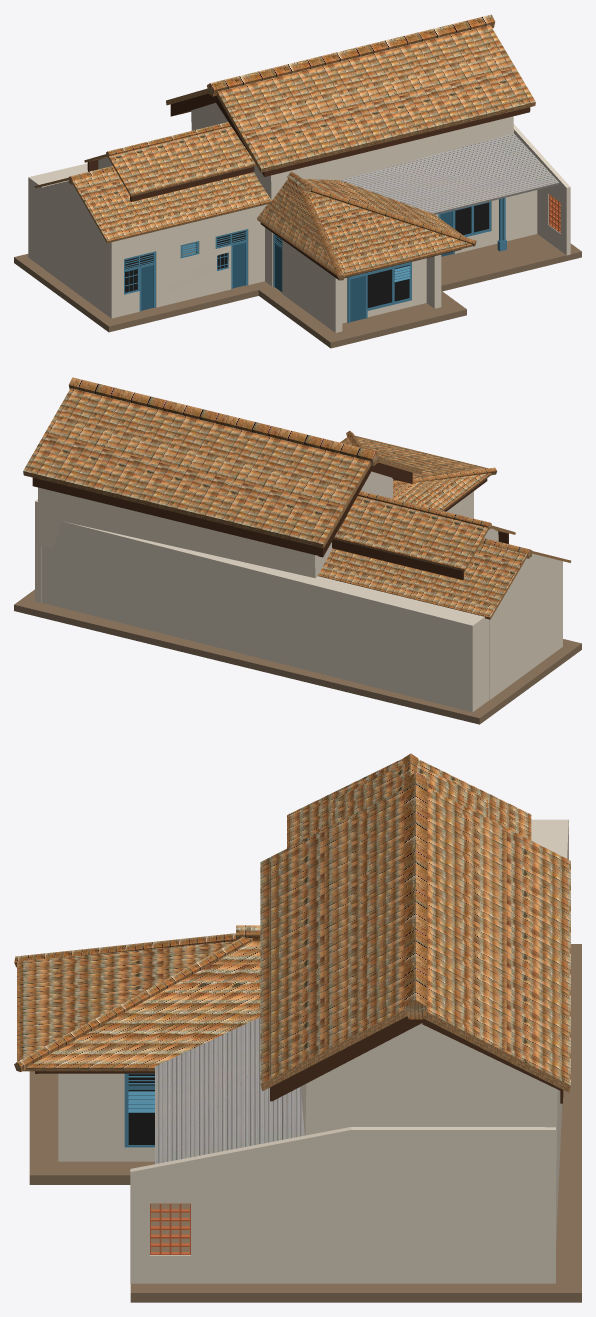
Rendered from multatuli.fbx.
The picture shows the model from 3 angles, top to bottom: view 1: azimuth 30°, elevation 25°; view 2: azimuth 150°, elevation 25°; view 3: azimuth 270°, elevation 25°; orthographic projection. The views are drawn at different scales.
Parts seen in each view (by area): view 1: tembok, Cube9, lantai, Cube2, Cube11, Cube14, Cube7, plafond_ka, Cylin4, kaca, Cube1, pintu (+7 smaller); view 2: tembok, Cube13, lantai, Cube8, Cube3, Cylin4, Cube6, Cube1, Cube14, Cube10, Cylin, Cylin3 (+2 smaller); view 3: tembok, Cube13, Cube9, lantai, Cube2, Cube12, Cube14, Cylin4, Cylin2, Cube16, Cube11, Cube7 (+6 smaller).
Boxes of the visible parts, <box> form: tembok: <box>28,103,570,332</box>; Cube9: <box>216,25,535,172</box>; lantai: <box>14,234,581,348</box>; Cube2: <box>341,133,559,214</box>; Cube11: <box>71,170,272,243</box>; Cube14: <box>308,192,472,277</box>; Cube7: <box>108,126,256,196</box>; plafond_ka: <box>124,197,506,322</box>; Cylin4: <box>207,14,495,96</box>; kaca: <box>125,202,488,307</box>; Cube1: <box>257,179,337,275</box>; pintu: <box>141,211,452,321</box>; tembok: <box>35,471,562,712</box>; Cube13: <box>23,388,370,548</box>; lantai: <box>14,589,581,724</box>; Cube8: <box>318,543,527,619</box>; Cube3: <box>333,496,488,571</box>; Cylin4: <box>69,377,379,465</box>; Cube6: <box>32,477,319,555</box>; Cube1: <box>393,473,491,511</box>; Cube14: <box>355,435,487,481</box>; Cube10: <box>332,539,463,579</box>; Cylin: <box>358,491,491,529</box>; Cylin3: <box>393,467,496,485</box>; tembok: <box>58,819,568,1283</box>; Cube13: <box>423,788,570,1092</box>; Cube9: <box>260,789,407,1091</box>; lantai: <box>29,944,581,1302</box>; Cube2: <box>155,1017,304,1163</box>; Cube12: <box>23,941,260,1071</box>; Cube14: <box>17,941,234,1061</box>; Cylin4: <box>404,772,427,1019</box>; Cylin2: <box>14,937,252,1071</box>; Cube16: <box>271,1016,424,1101</box>; Cube11: <box>287,758,403,848</box>; Cube7: <box>333,764,404,824</box>.
Bounding box in the file's own units: 2120 × 849 × 1459.
17 materials, 9 textured.
